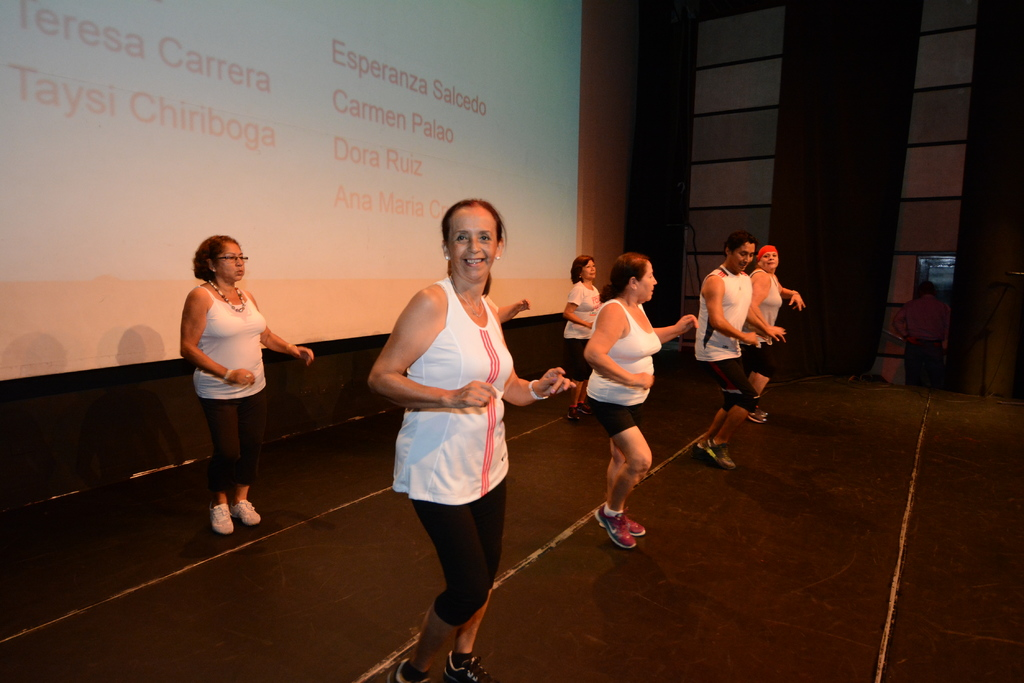Human-face: (447, 206, 500, 281), (218, 242, 246, 282), (730, 243, 756, 272), (638, 263, 657, 301), (764, 252, 778, 268), (586, 263, 595, 278)
